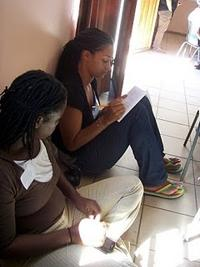person: (56, 28, 183, 198)
